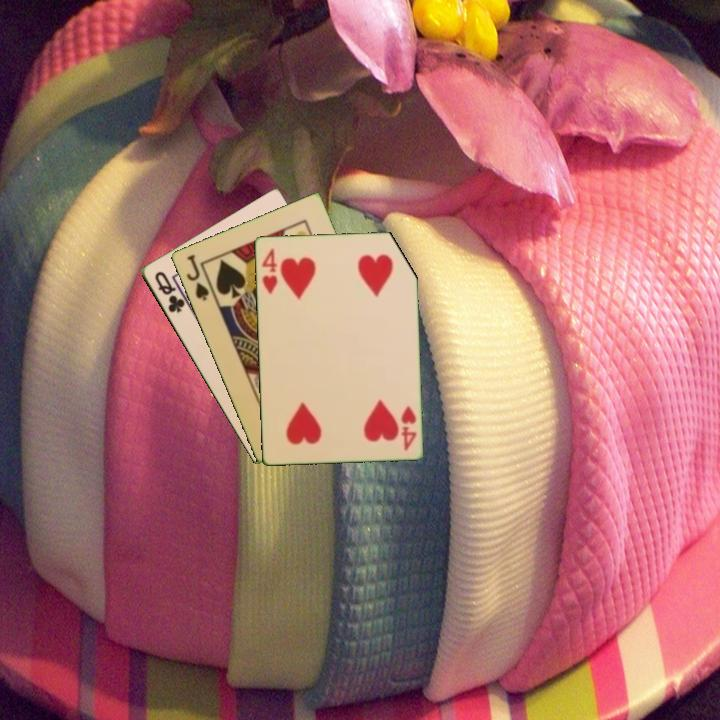4h: (258, 245, 280, 296), (397, 402, 419, 453)
Js: (182, 251, 211, 303)
Qc: (151, 267, 187, 316)
